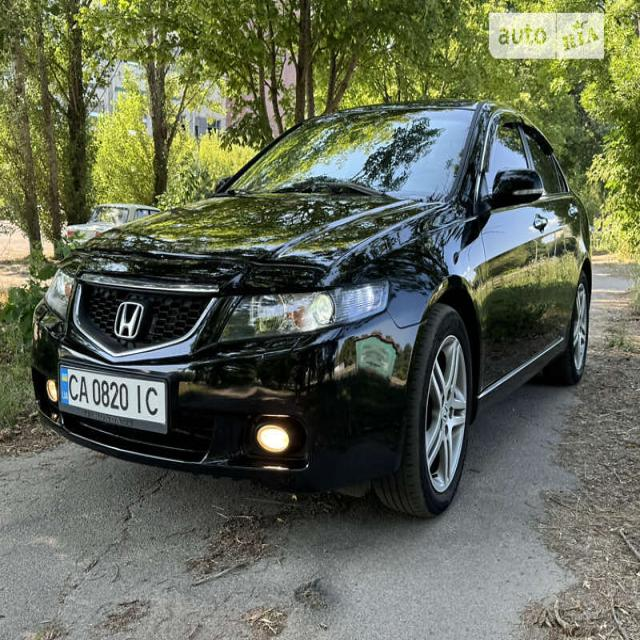plate: (59, 369, 168, 436)
